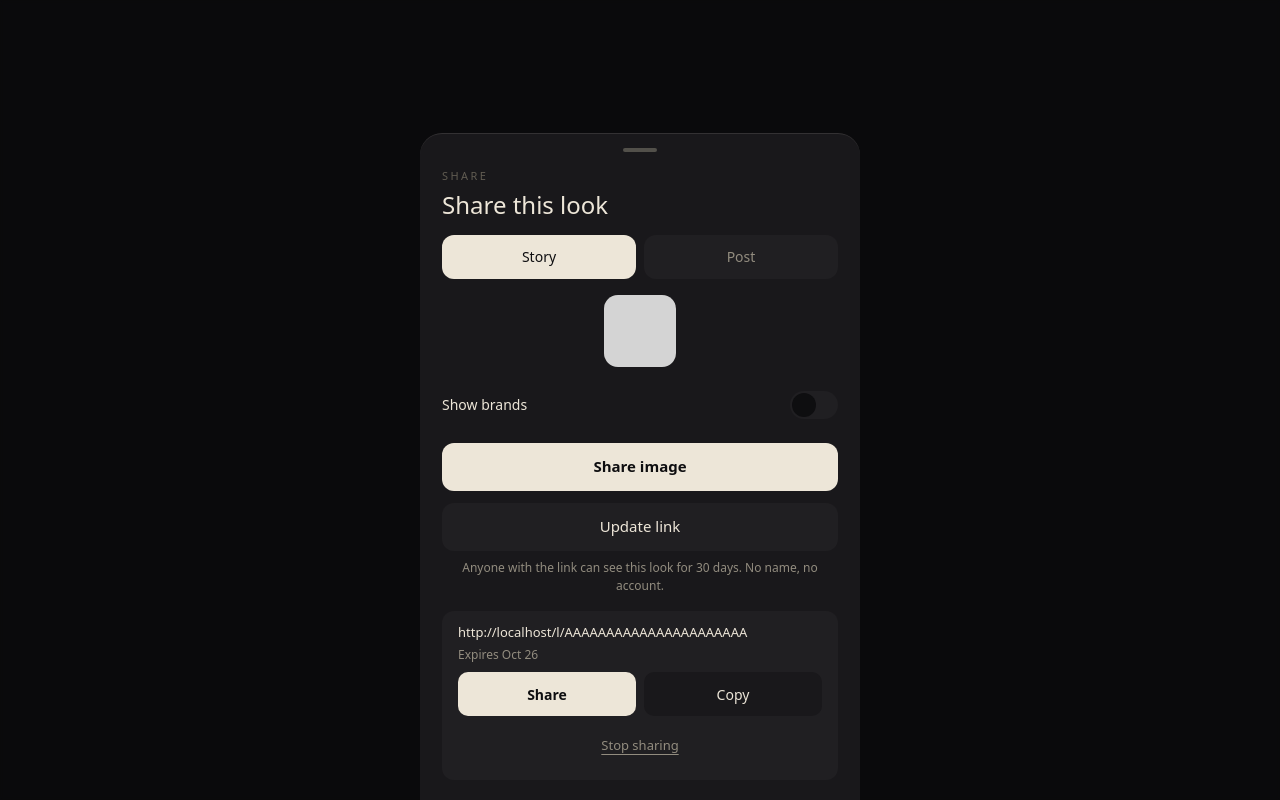
Test case: a failed image cleanup leaves the public link off and offers a retry
Expected: the button "Share image" is enabled, left=442, top=442, right=838, bottom=490
Expected: the text "http://localhost/l/AAAAAAAAAAAAAAAAAAAAAA" is shown, left=458, top=622, right=747, bottom=640
What coordinates should you click on to do the following:
click the button "Stop sharing"
I would click on:
 (640, 746)
Its box is left=458, top=724, right=822, bottom=768.
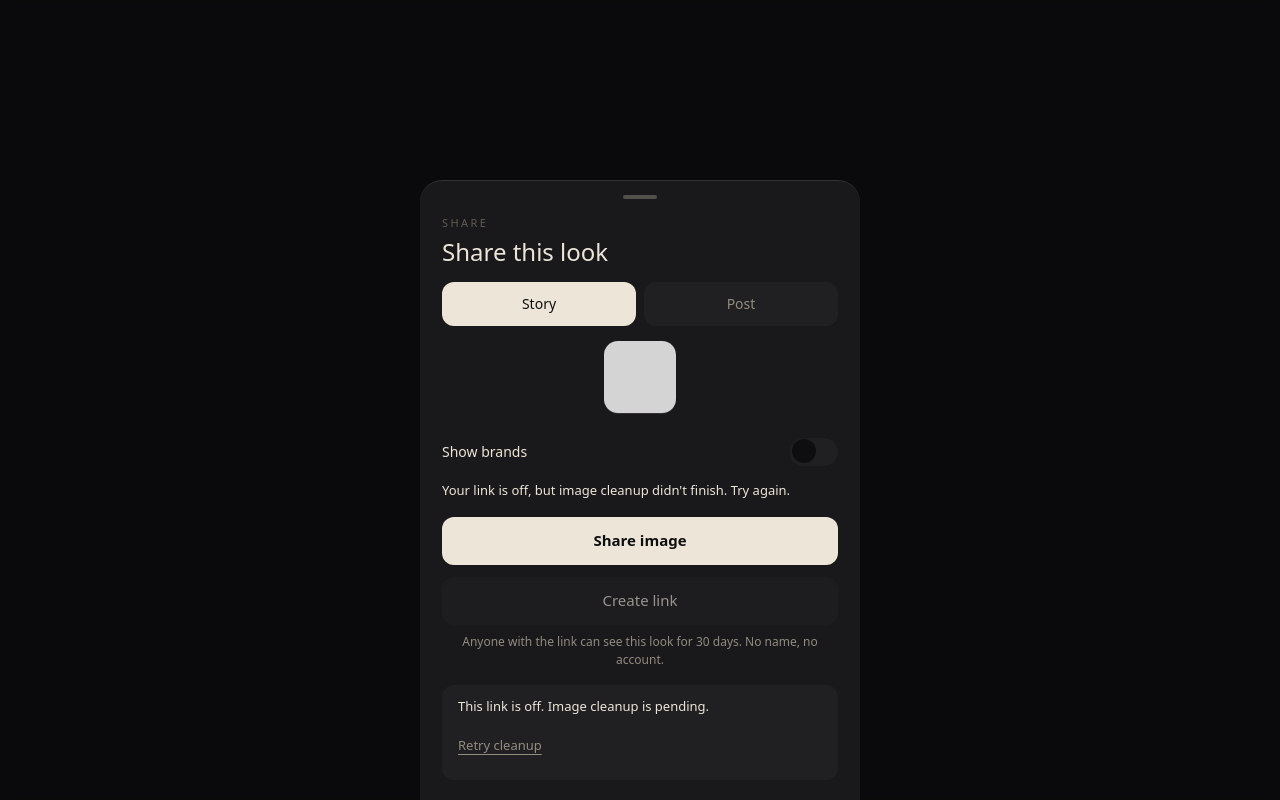
Result: the text with test id "share-url" is gone
Result: the button "Retry cleanup" is shown at left=458, top=724, right=542, bottom=768
Result: the button "Create link" is disabled at left=442, top=576, right=838, bottom=624
